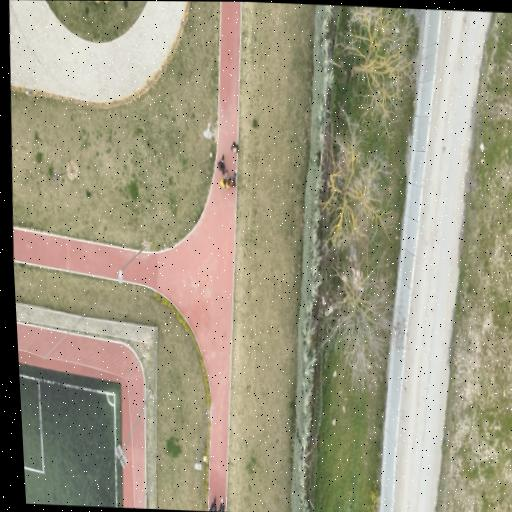person: (219, 170, 228, 189), (227, 170, 236, 187), (217, 155, 224, 172), (218, 498, 224, 511), (209, 497, 215, 510), (230, 141, 237, 152)
